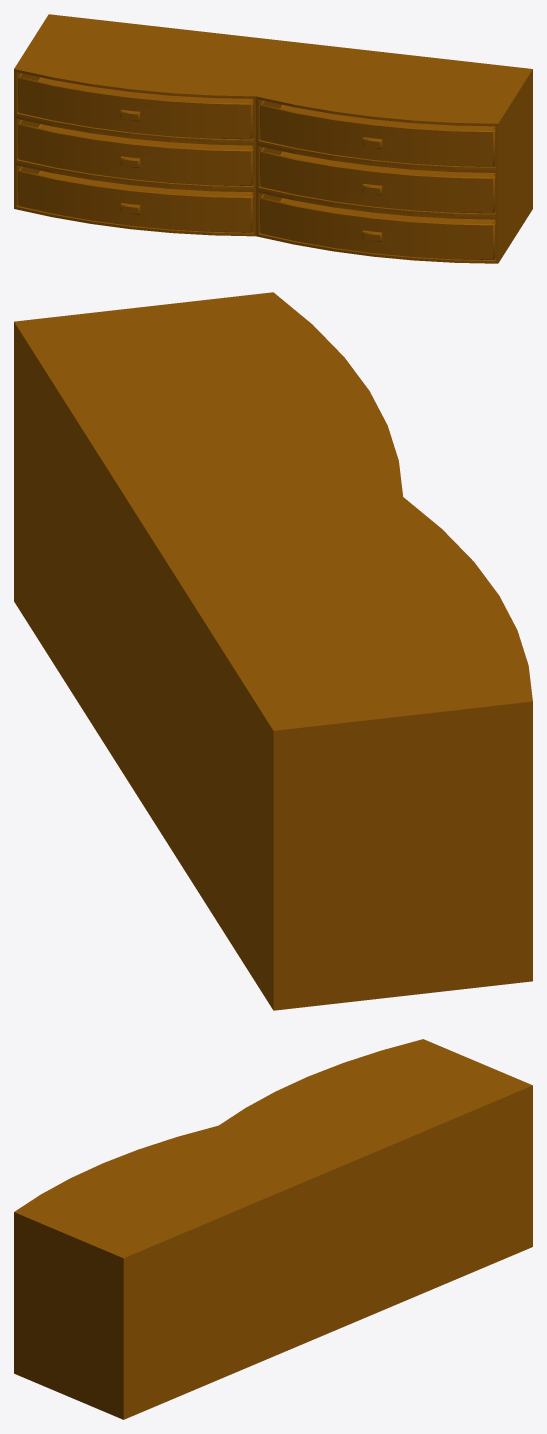
File: Hea_Player_Room_Shelf_grounded.fbx
The picture shows the model from 3 angles, top to bottom: view 1: azimuth 30°, elevation 25°; view 2: azimuth 150°, elevation 25°; view 3: azimuth 270°, elevation 25°; orthographic projection. The views are drawn at different scales.
Visible parts, largest first — view 1: Storage; view 2: Storage; view 3: Storage.
Boxes of the visible parts, x1=… form: Storage: x1=14, y1=14, x2=532, y2=263; Storage: x1=14, y1=292, x2=532, y2=1010; Storage: x1=14, y1=1039, x2=532, y2=1419.
Size of the model in its own units: 237 by 81.35 by 237.
